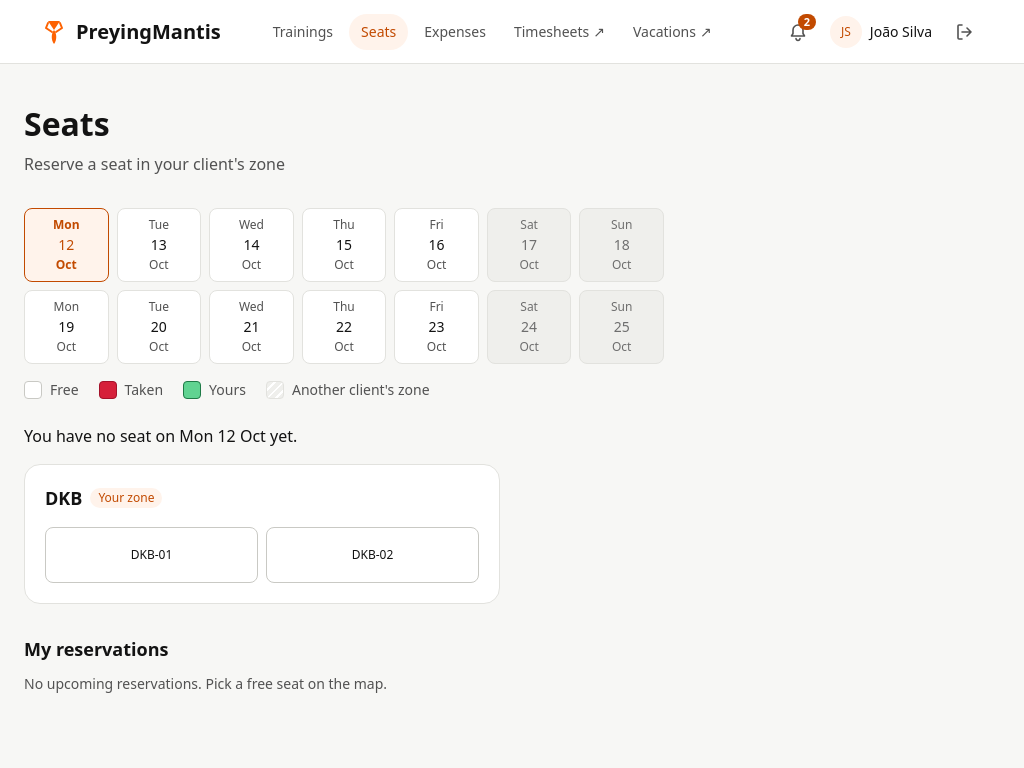
Test: reserve a seat › asks "Reserve DKB-01 for Mon 12 Oct?", then the seat becomes mine
The image size is (1024, 768).
Click the button with aria-label "DKB-01, free" at {"x": 152, "y": 555}, box [45,527,258,583]
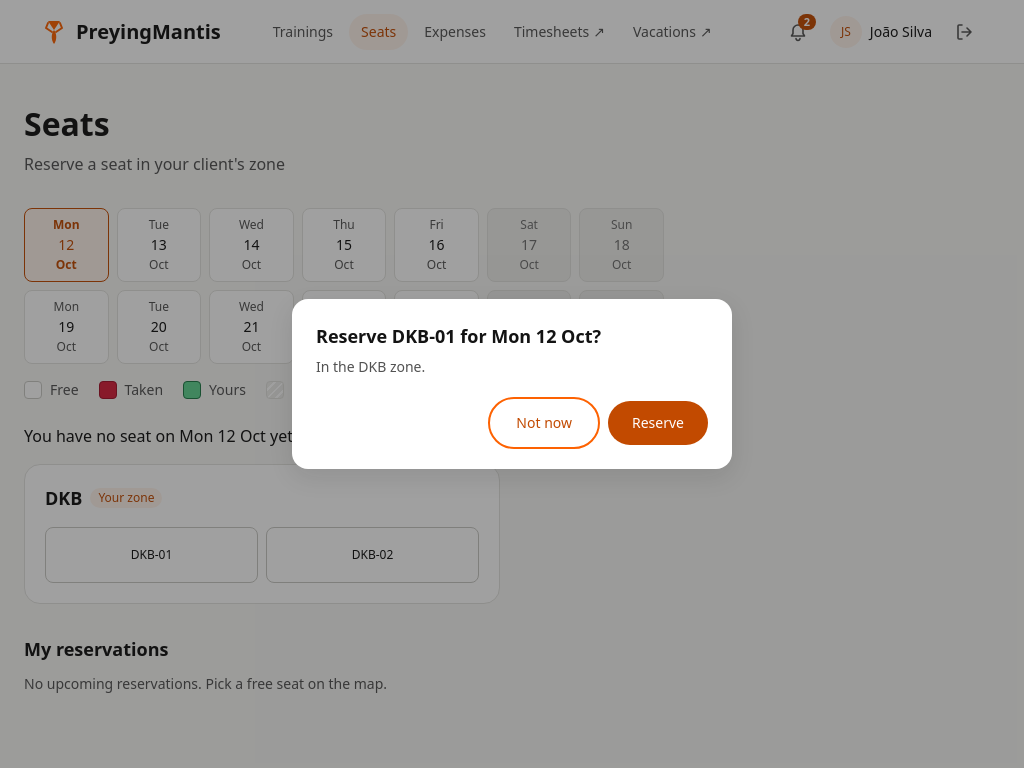
Click the button "Reserve" at {"x": 658, "y": 423}, box [608,401,708,445]
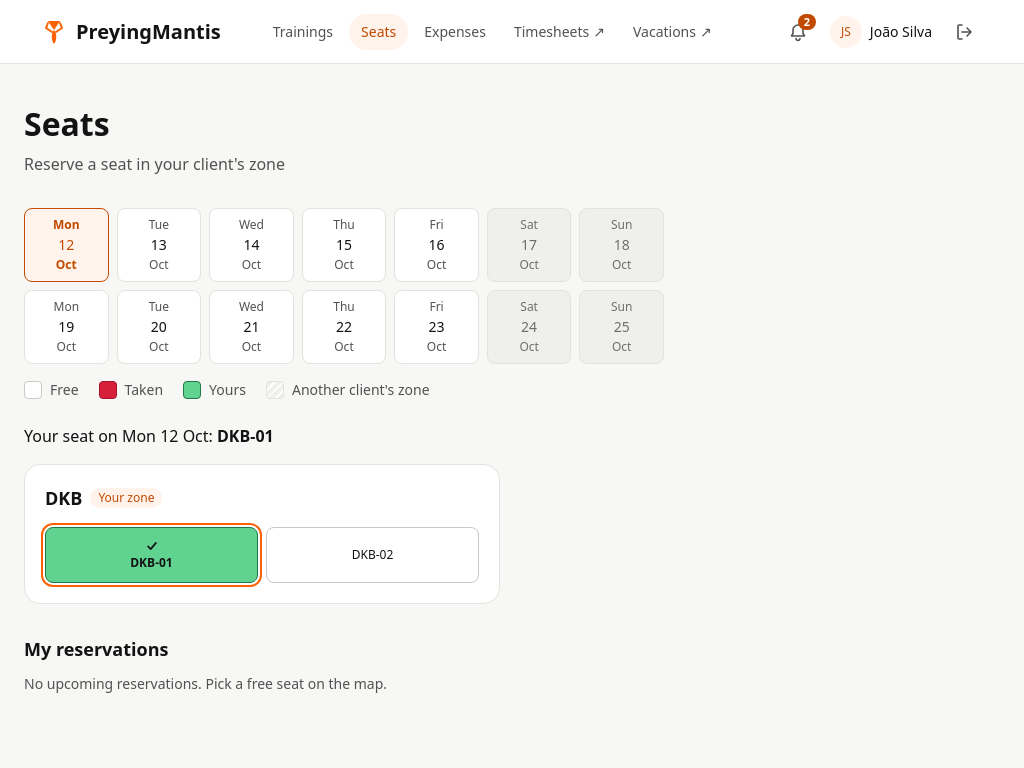
Expected: the button with aria-label "DKB-01, your seat" is shown, [45,527,258,583]
Expected: the text "Your seat on Mon 12 Oct: DKB-01" is shown, [24,425,274,447]
